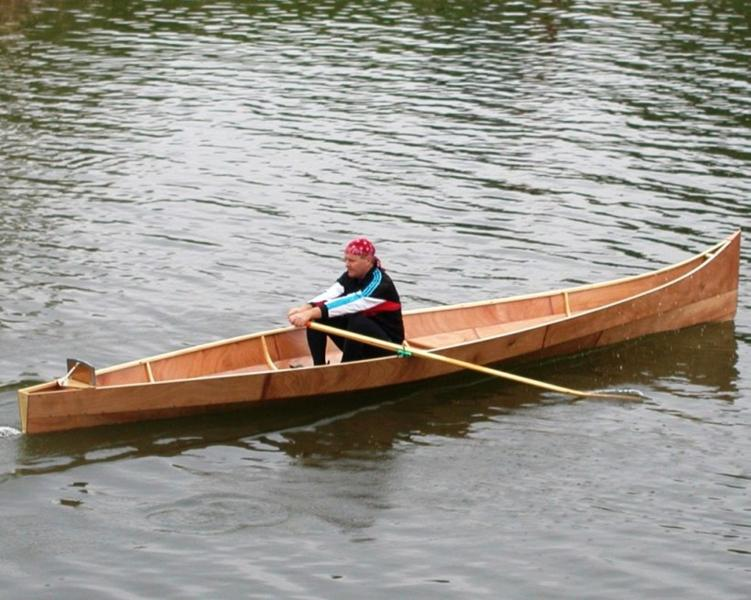person: (290, 240, 409, 366)
